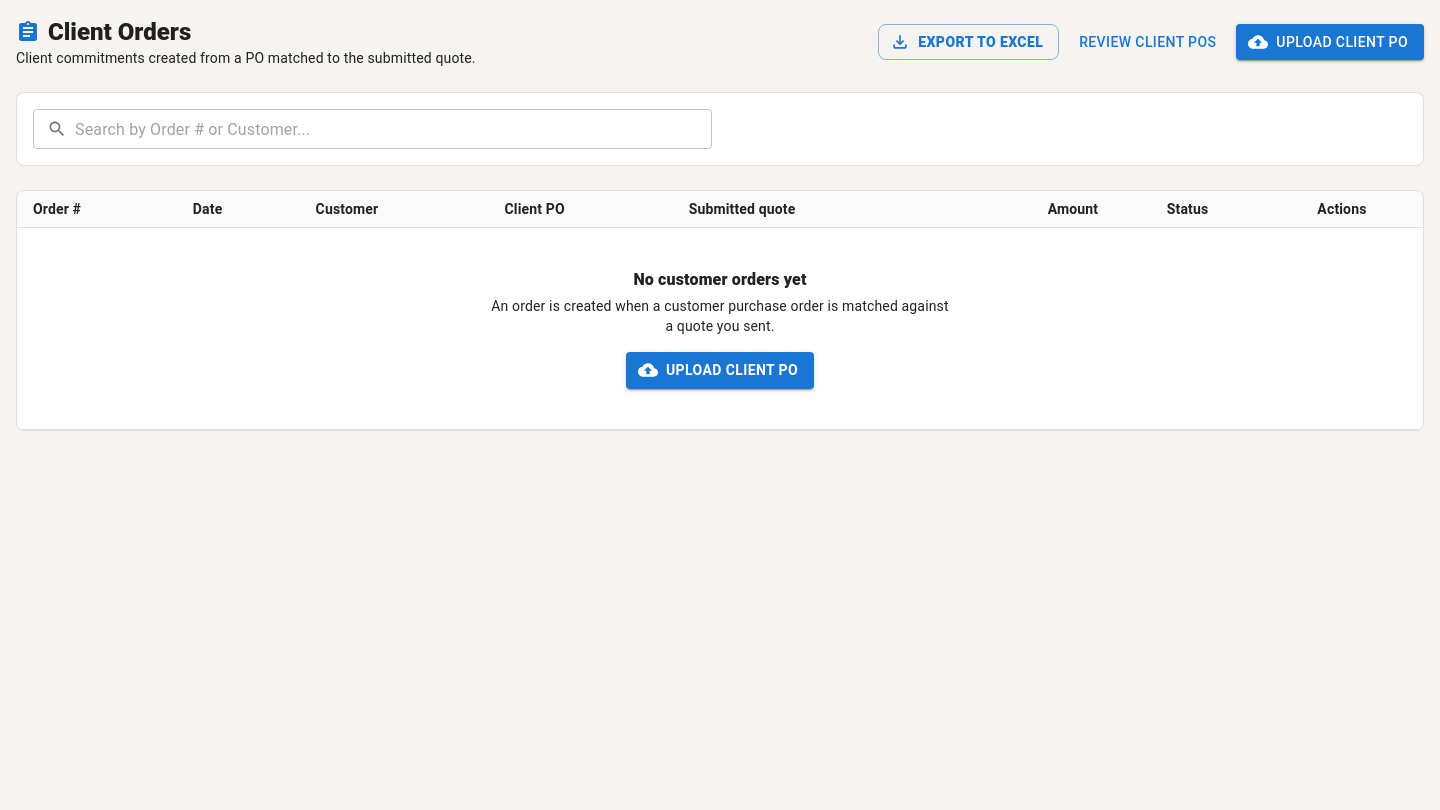
Test: the order screens without Customer Awards › with the grant, upload starts on Client Orders and the review queue remains reachable
expect the button "Review Client POs" is shown: met, box x1=1071 y1=24 x2=1224 y2=60
Click the button "Upload Client PO" in the row of "Client Orders".
click(1330, 42)  # box x1=1236 y1=24 x2=1424 y2=60
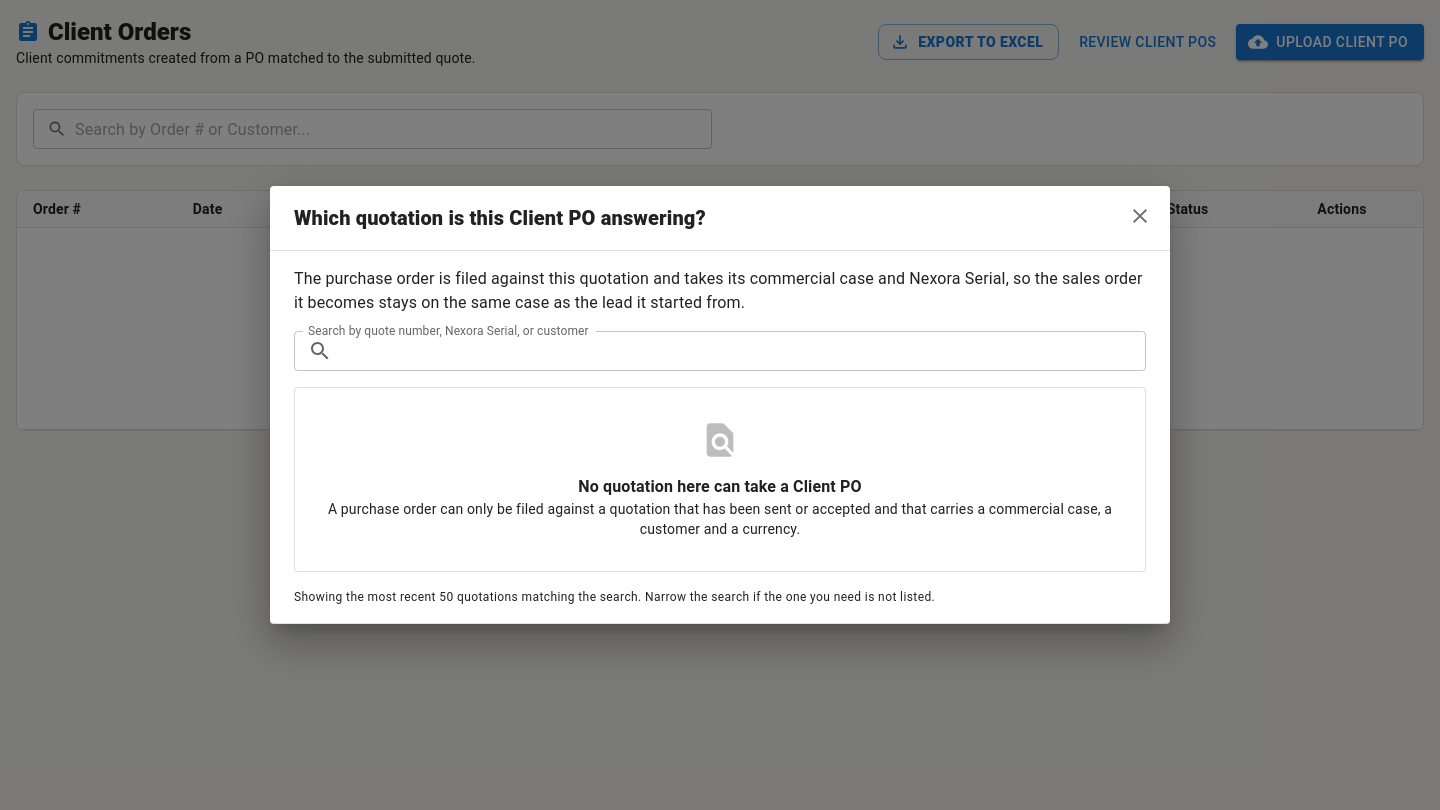
expect the heading "Which quotation is this Client PO answering?" is shown: met, box x1=270 y1=186 x2=1170 y2=250
